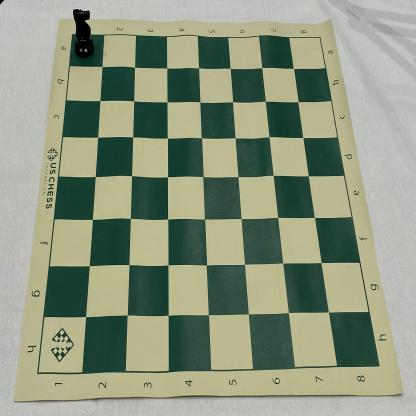black-knight: (72, 9, 96, 58)
